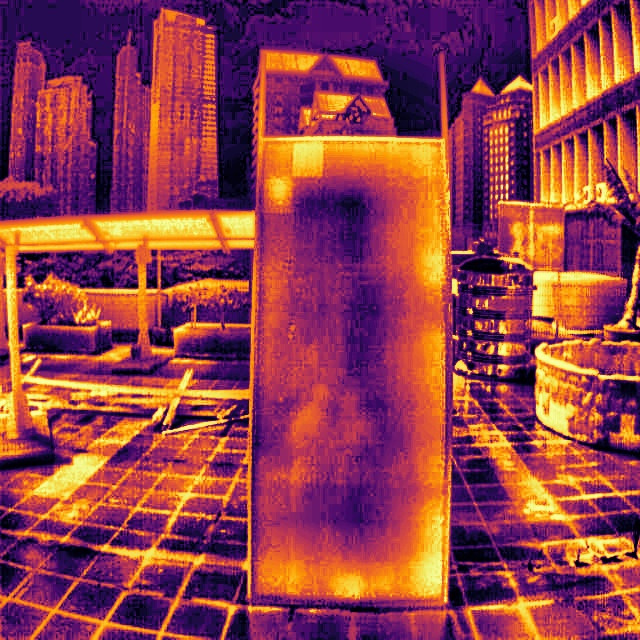Hotspot: (262, 174, 294, 213), (294, 142, 322, 175)
Moderate: (263, 174, 293, 217), (294, 142, 322, 175)
